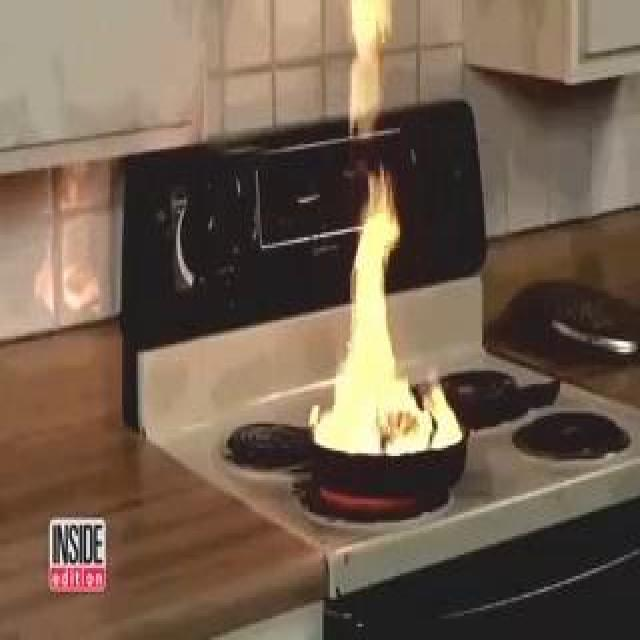Fire: (168, 246, 390, 422)
